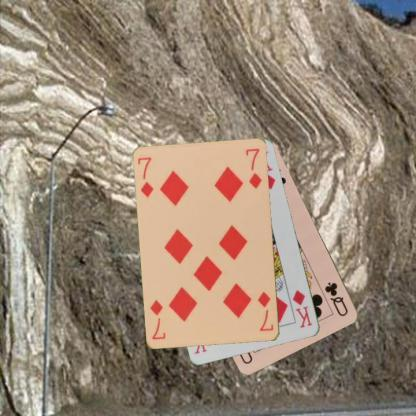7d: (135, 155, 156, 199), (255, 289, 275, 333)
Kd: (290, 287, 313, 329)
Qc: (322, 280, 350, 317)
